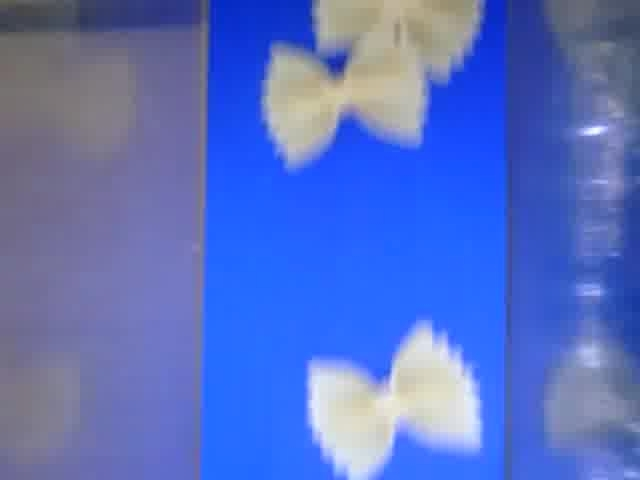farfalle: (309, 320, 484, 480), (260, 27, 426, 171)
